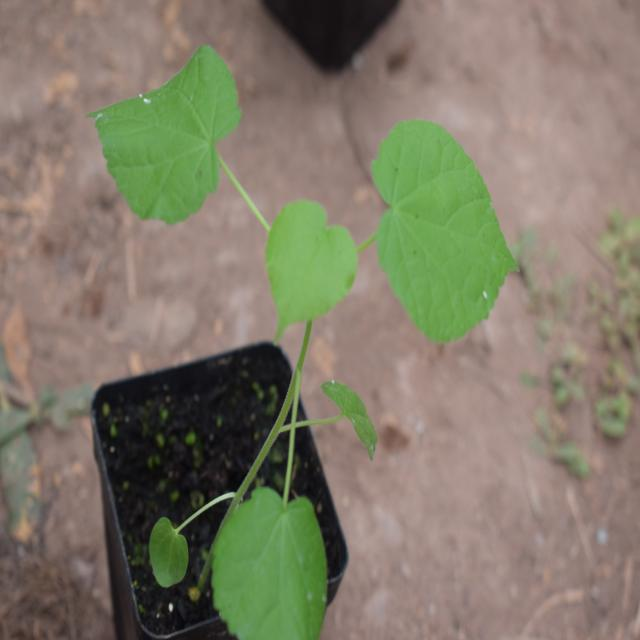abutilon theophrasti: (85, 45, 506, 614)
